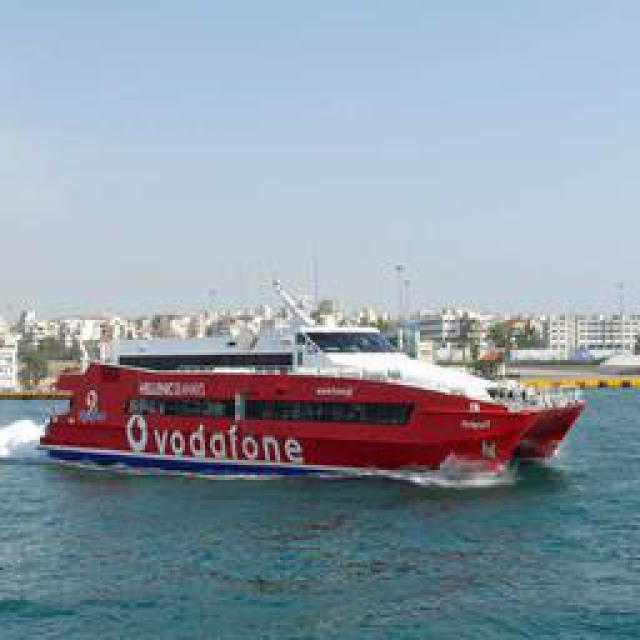Ship: (45, 327, 580, 480)
